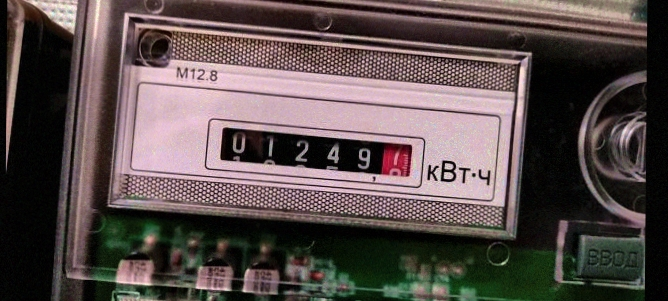0: (230, 128, 248, 154)
1: (262, 131, 277, 157)
2: (292, 138, 310, 164)
4: (325, 139, 342, 164)
7: (389, 140, 405, 166)
9: (354, 144, 371, 170)
screen: (203, 116, 428, 191)
